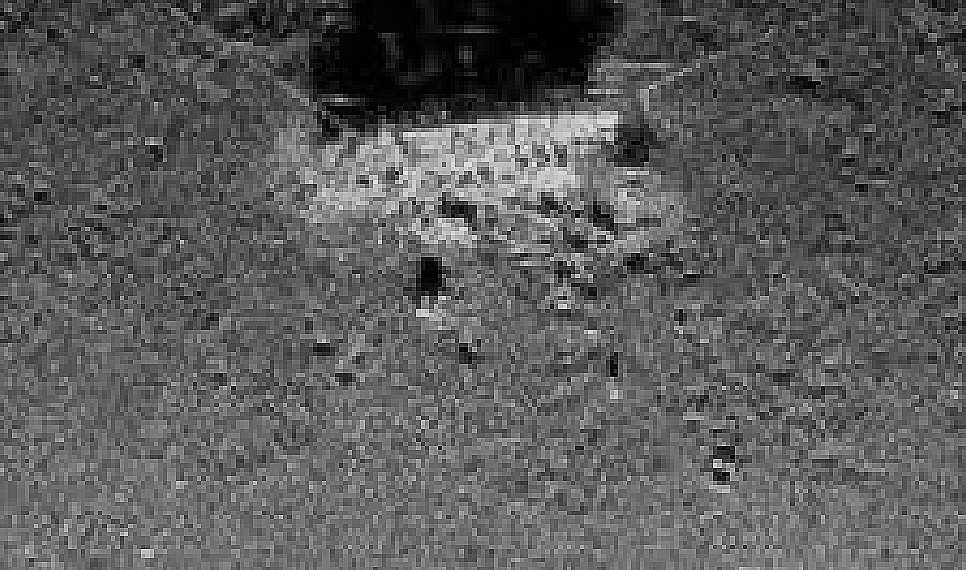ship: (291, 86, 639, 221)
